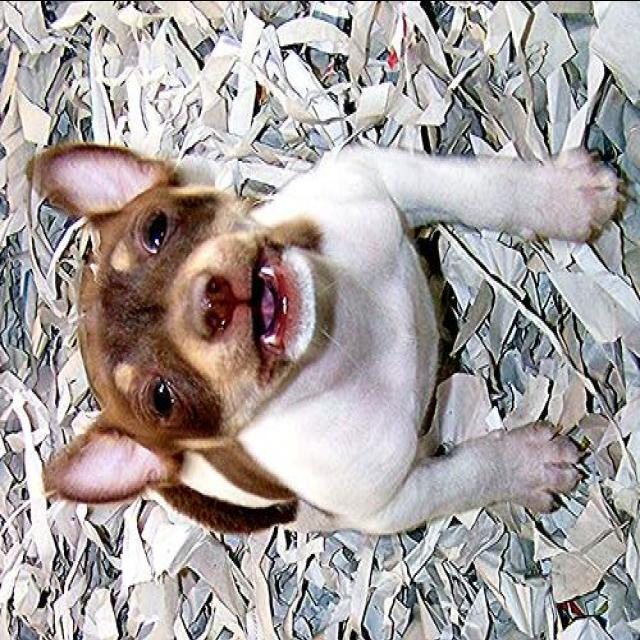toy_terrier: (21, 136, 624, 532)
